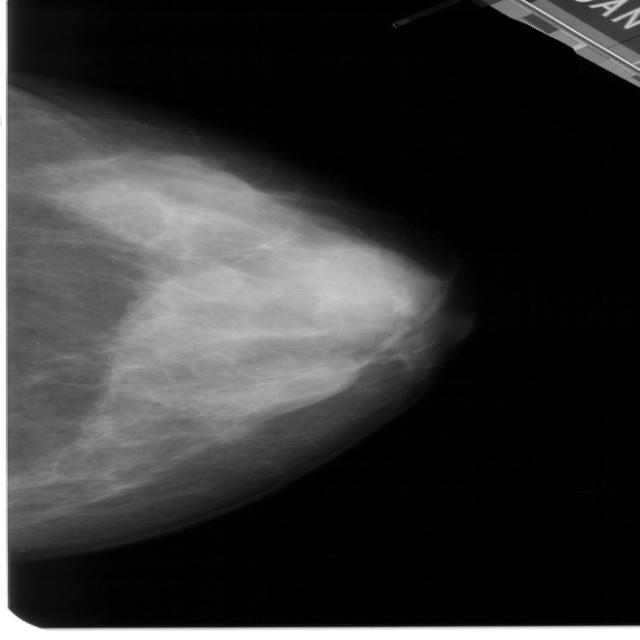tumour: (310, 246, 430, 321)
